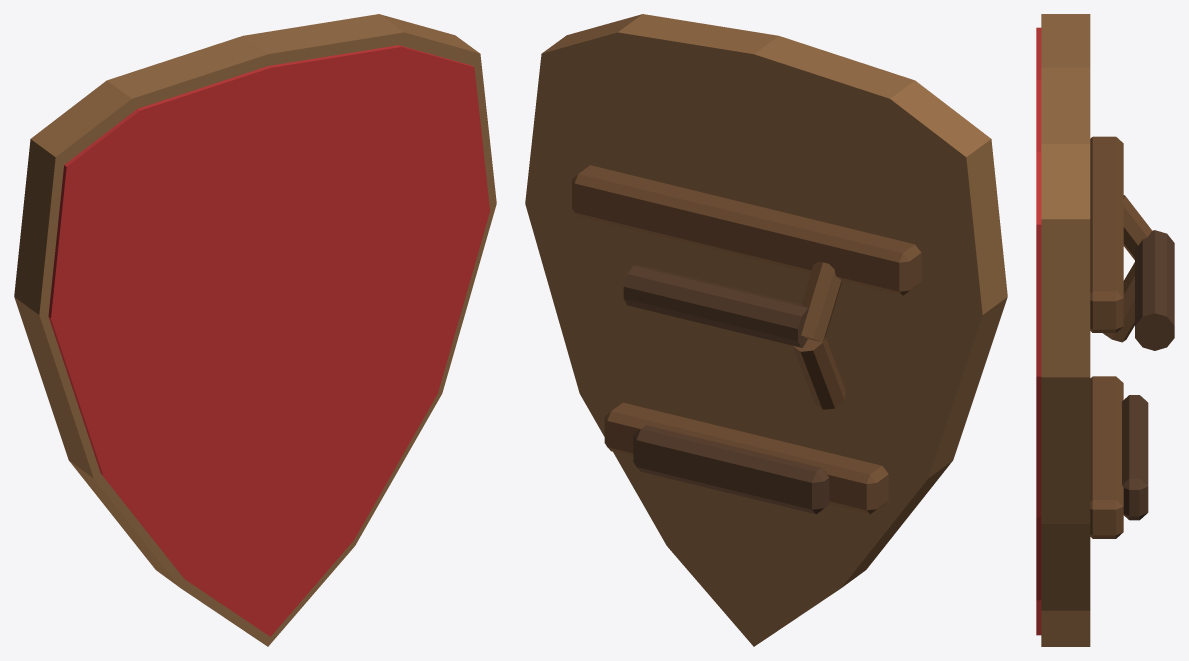
Rendered from MedievalShieldglb.glb.
3 renders of one model, left to right at view 1: azimuth 30°, elevation 25°; view 2: azimuth 150°, elevation 25°; view 3: azimuth 270°, elevation 25°, orthographic. The views are drawn at different scales.
Parts seen in each view (by area): view 1: ShieldRedFront, ShieldWoodCore; view 2: ShieldWoodCore, ShieldBackBraceUpper, ShieldForearmStrap, ShieldHandGrip, ShieldBackBraceLower, ShieldGripLowerMount, ShieldGripUpperMount; view 3: ShieldWoodCore, ShieldBackBraceUpper, ShieldBackBraceLower, ShieldHandGrip, ShieldRedFront, ShieldForearmStrap, ShieldGripUpperMount, ShieldGripLowerMount.
Boxes of the visible parts, <box> form: ShieldRedFront: <box>48,45,489,636</box>; ShieldWoodCore: <box>14,14,496,646</box>; ShieldWoodCore: <box>525,14,1007,646</box>; ShieldBackBraceUpper: <box>572,165,921,295</box>; ShieldForearmStrap: <box>633,425,829,514</box>; ShieldHandGrip: <box>623,265,808,347</box>; ShieldBackBraceLower: <box>604,402,888,514</box>; ShieldGripLowerMount: <box>792,337,845,409</box>; ShieldGripUpperMount: <box>801,261,842,342</box>; ShieldWoodCore: <box>1041,14,1090,646</box>; ShieldBackBraceUpper: <box>1090,136,1123,332</box>; ShieldBackBraceLower: <box>1090,376,1123,538</box>; ShieldHandGrip: <box>1135,230,1174,350</box>; ShieldRedFront: <box>1036,27,1041,635</box>; ShieldForearmStrap: <box>1122,395,1148,520</box>; ShieldGripUpperMount: <box>1123,195,1152,259</box>; ShieldGripLowerMount: <box>1103,262,1134,342</box>.
Bounding box in the file's own units: 0.84 × 1.04 × 0.2253.
